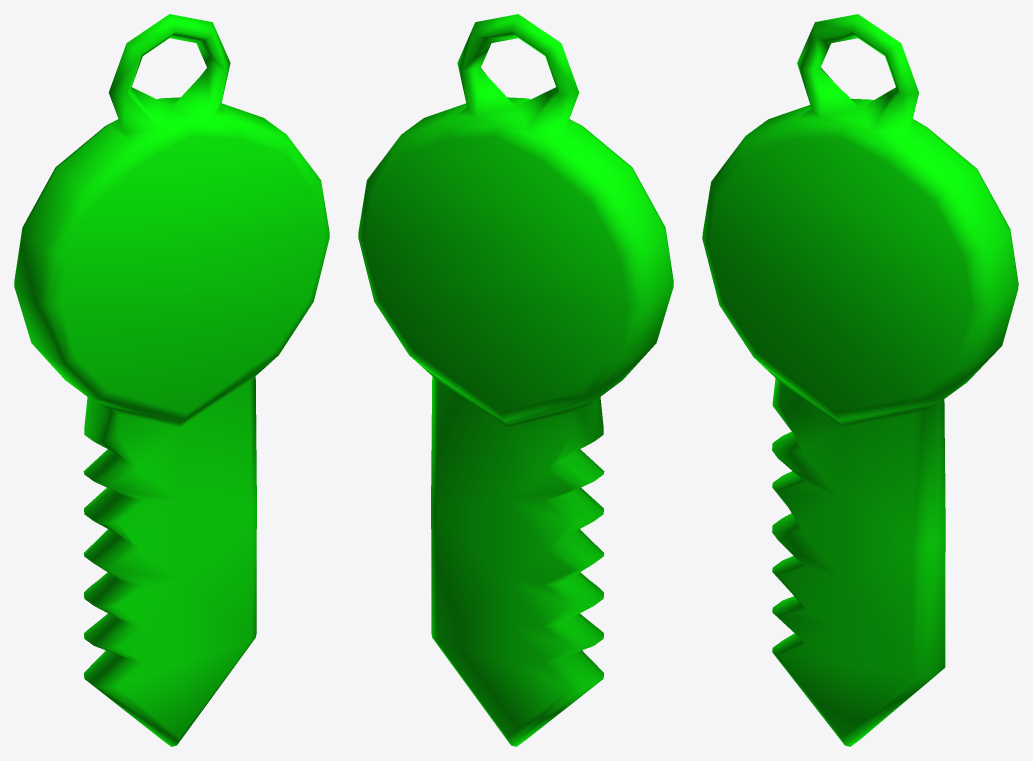
File: CLEF_MESH.FBX
The picture shows the model from 3 angles, left to right: view 1: azimuth 30°, elevation 25°; view 2: azimuth 150°, elevation 25°; view 3: azimuth 330°, elevation 25°; orthographic projection.
Visible parts, largest first — view 1: Clef; view 2: Clef; view 3: Clef.
Boxes of the visible parts, left/top/right/bottom form: Clef: left=14, top=14, right=329, bottom=746; Clef: left=358, top=14, right=673, bottom=746; Clef: left=702, top=14, right=1018, bottom=746.
Size of the model in its own units: 2.37 by 5.64 by 0.5606.
